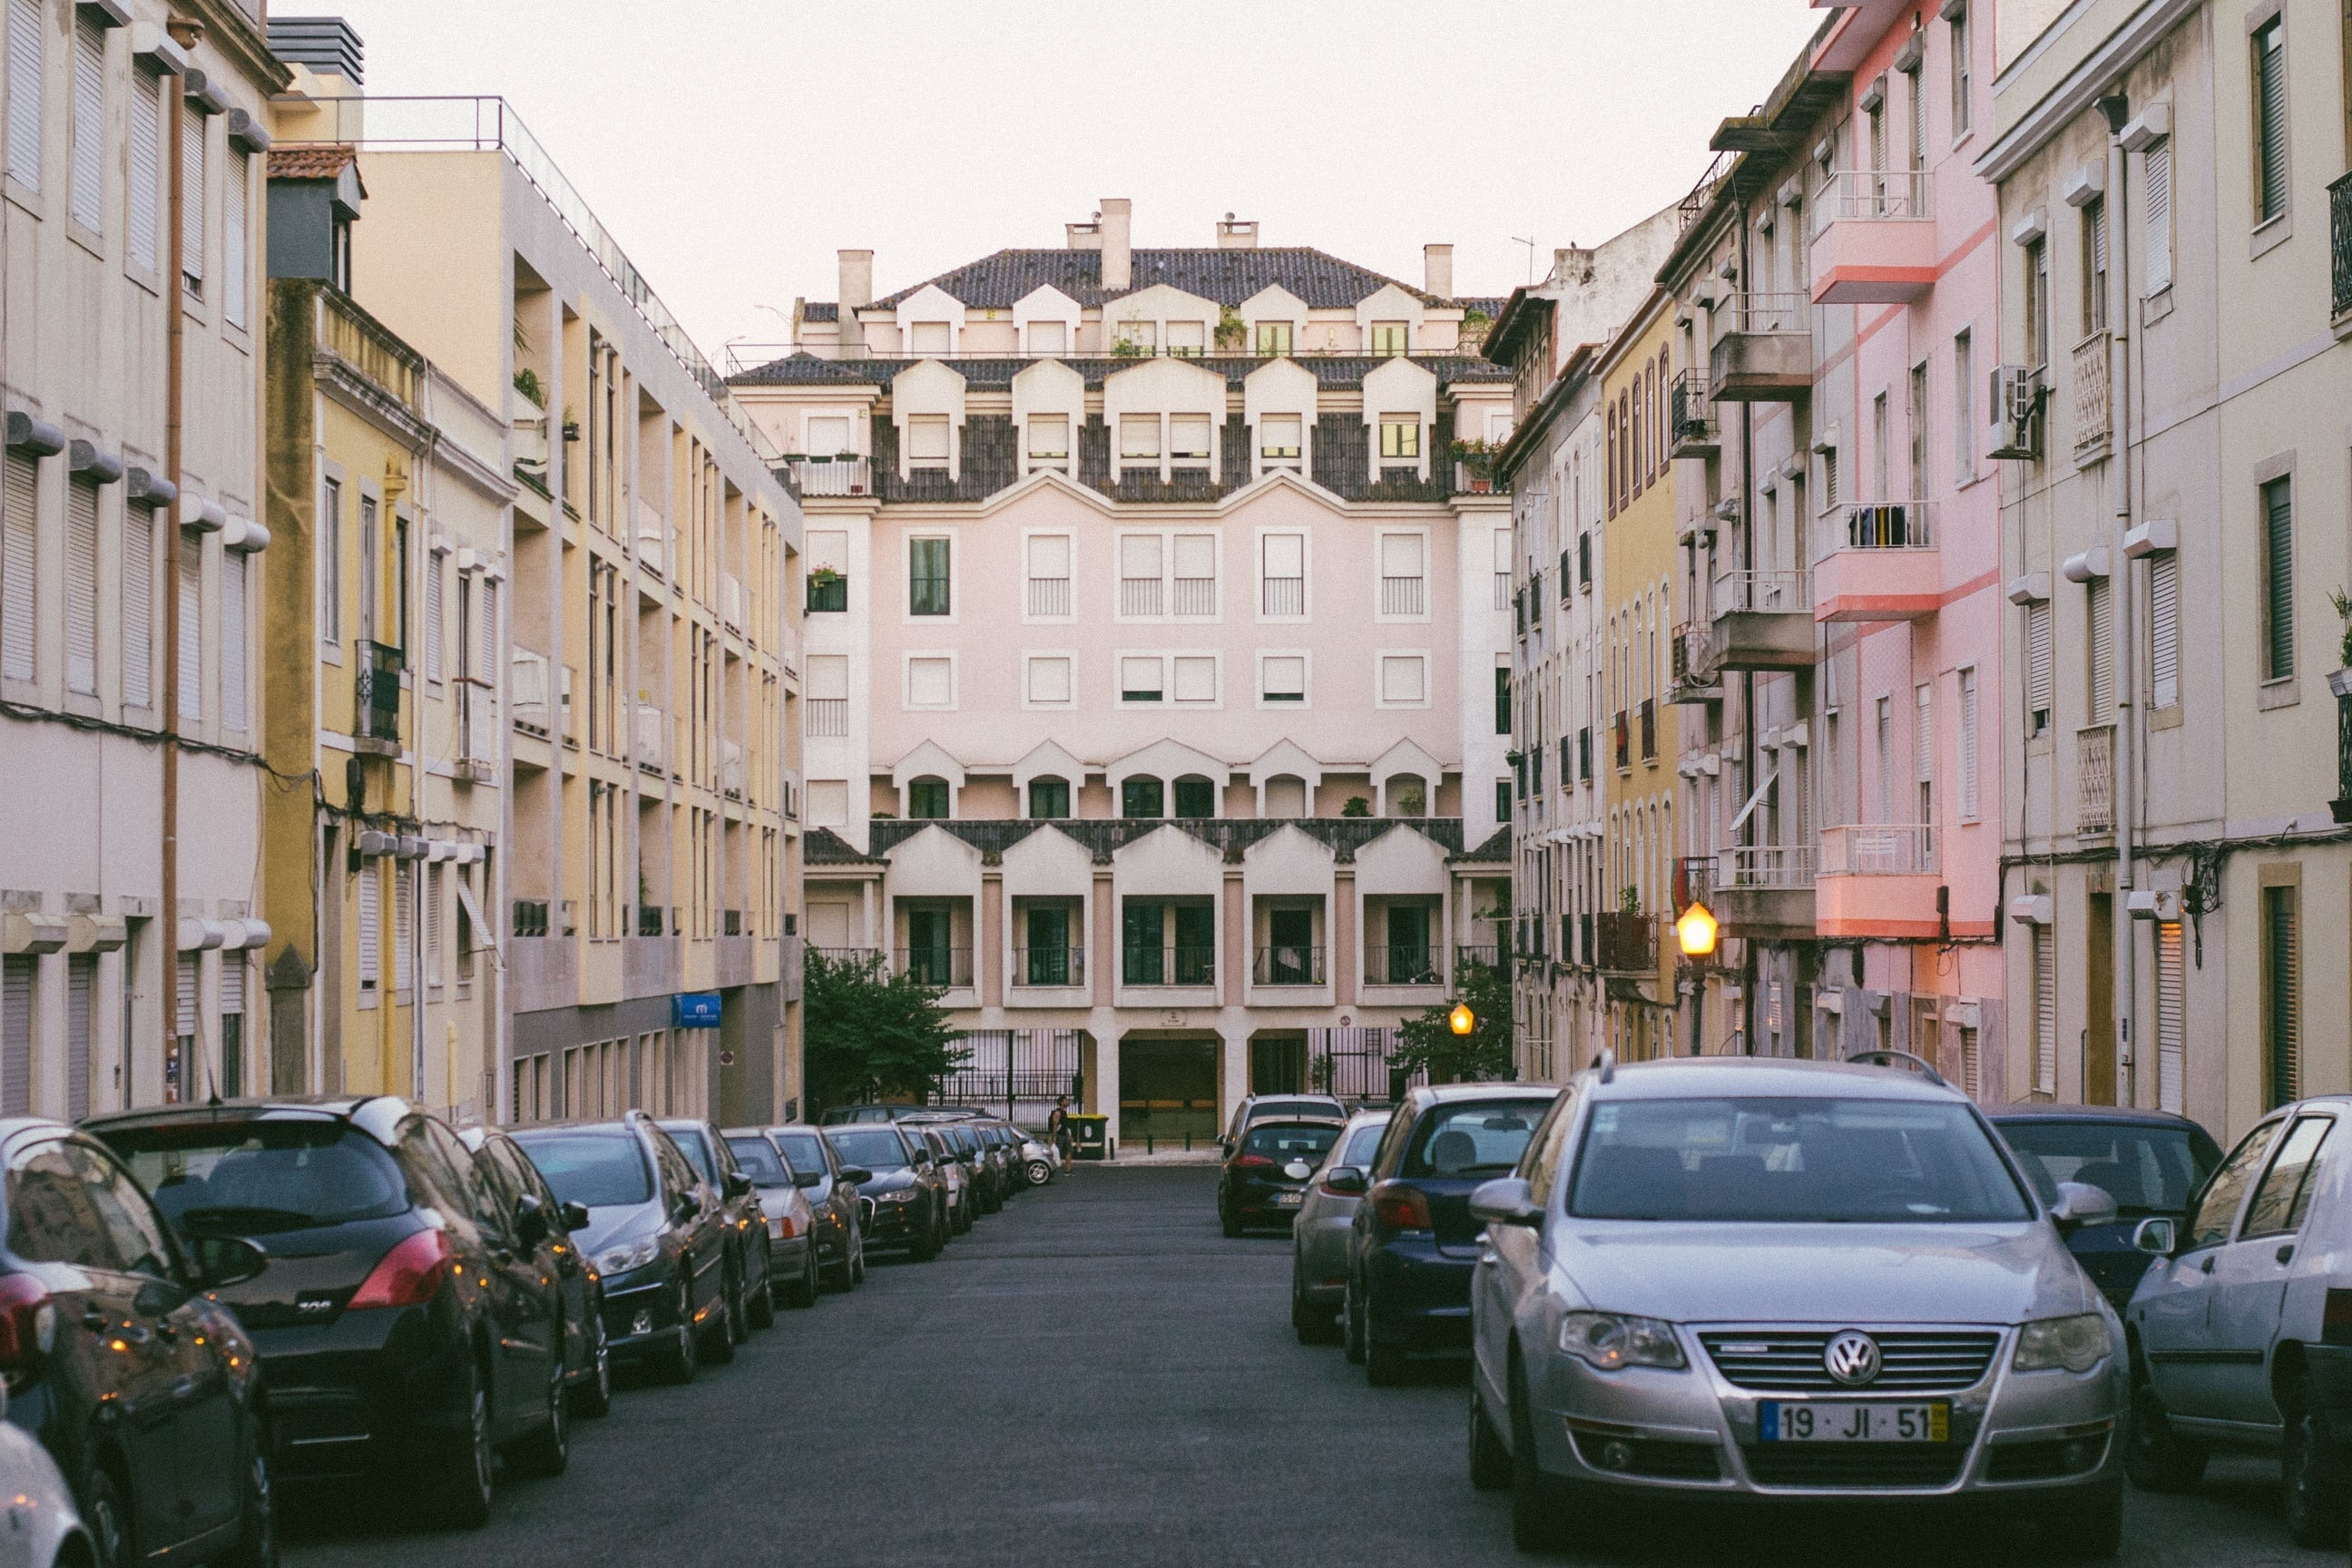plaka: (1755, 1397, 1955, 1444)
